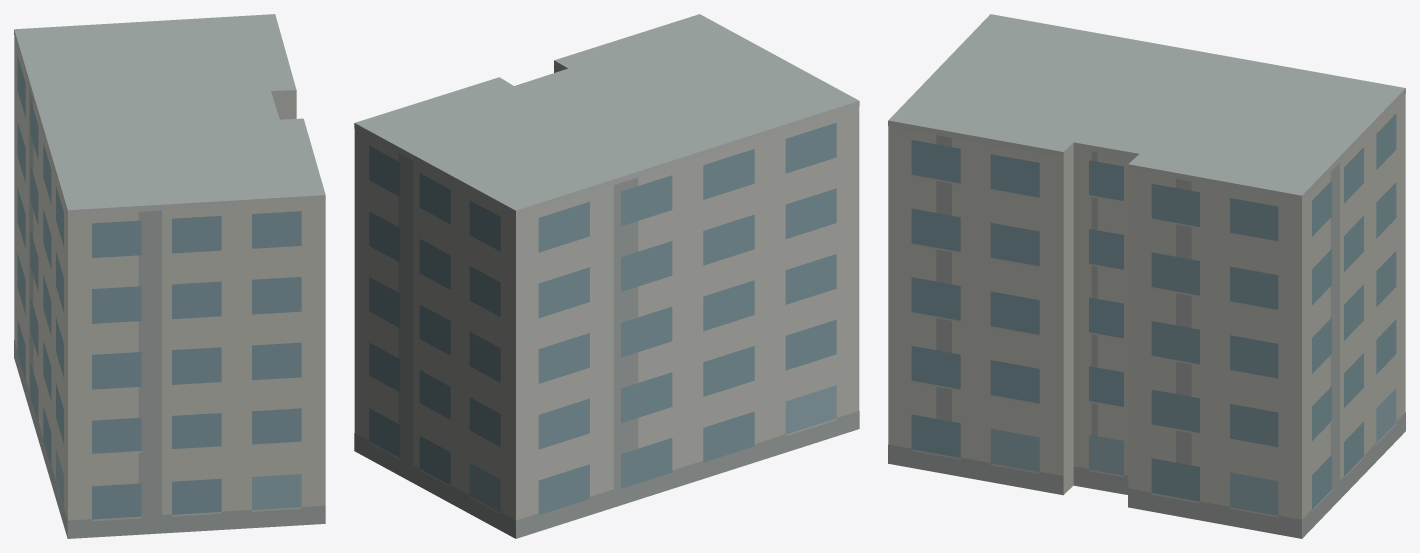
The model's file is survey-upis-32566639.glb.
3 renders of one model, left to right at view 1: azimuth 30°, elevation 25°; view 2: azimuth 150°, elevation 25°; view 3: azimuth 270°, elevation 25°, orthographic. The views are drawn at different scales.
Visible parts, largest first — view 1: survey-upis-32566639.tmp; view 2: survey-upis-32566639.tmp; view 3: survey-upis-32566639.tmp.
Boxes of the visible parts, left/top/right/bottom form: survey-upis-32566639.tmp: left=14, top=14, right=325, bottom=538; survey-upis-32566639.tmp: left=354, top=14, right=859, bottom=538; survey-upis-32566639.tmp: left=888, top=14, right=1405, bottom=538.
Size of the model in its own units: 16.04 by 14.11 by 19.3.
